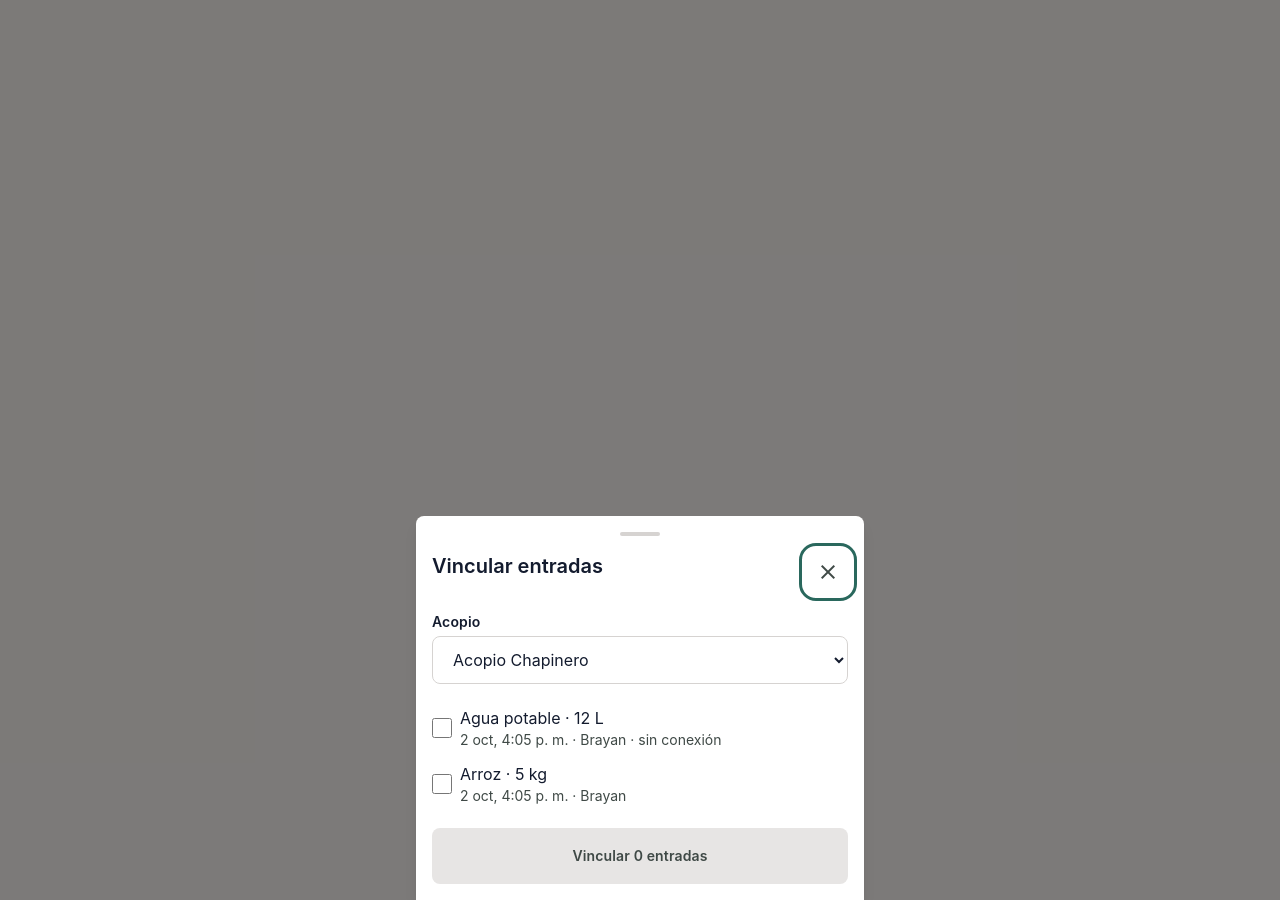
un 422 muestra el mensaje de la API
Click the checkbox labelled "Arroz · 5 kg 2 oct, 4:05 p. m. · Brayan" at (442, 784), box x1=432 y1=774 x2=452 y2=794
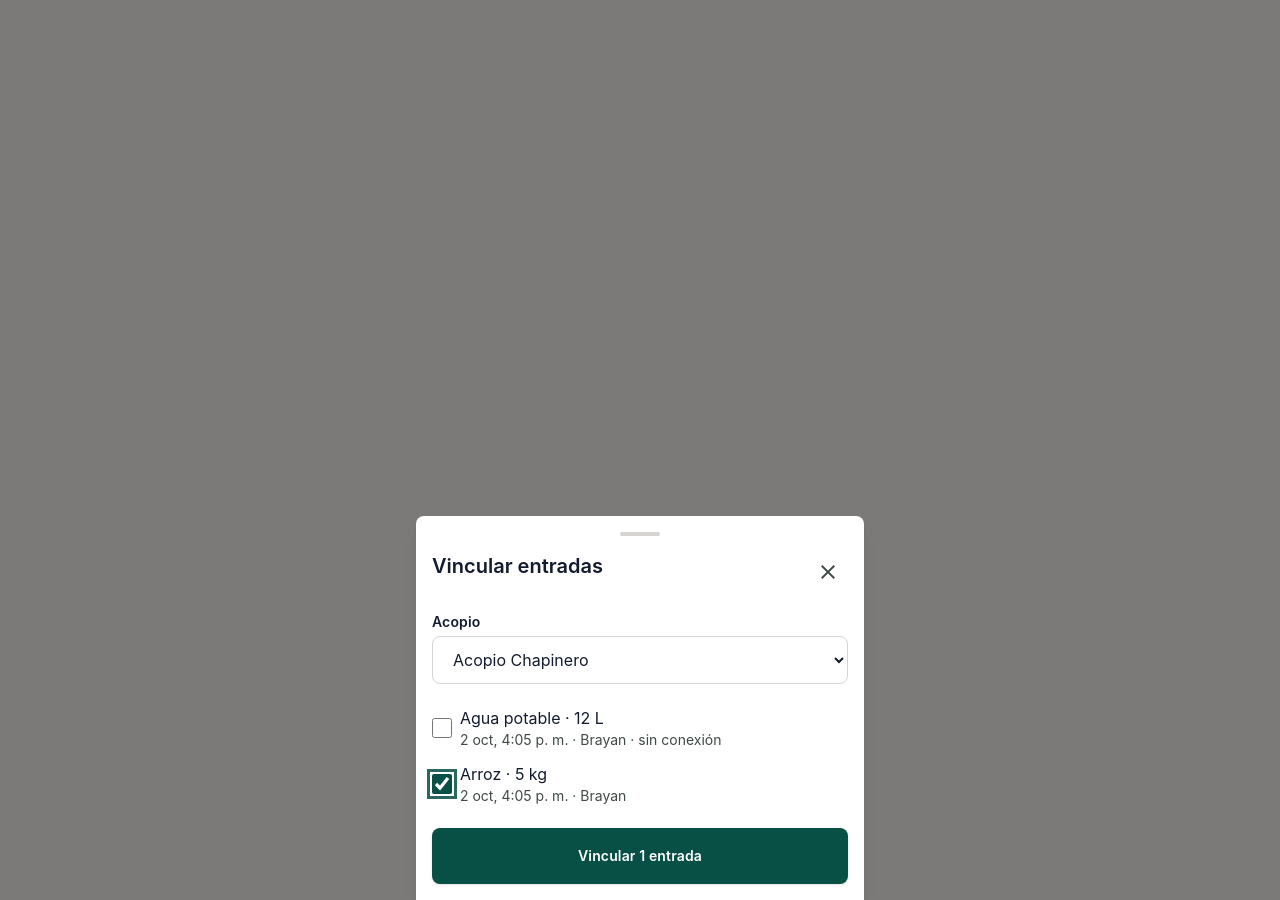
Click the button "Vincular 1 entrada" at (640, 856), box x1=432 y1=828 x2=848 y2=884
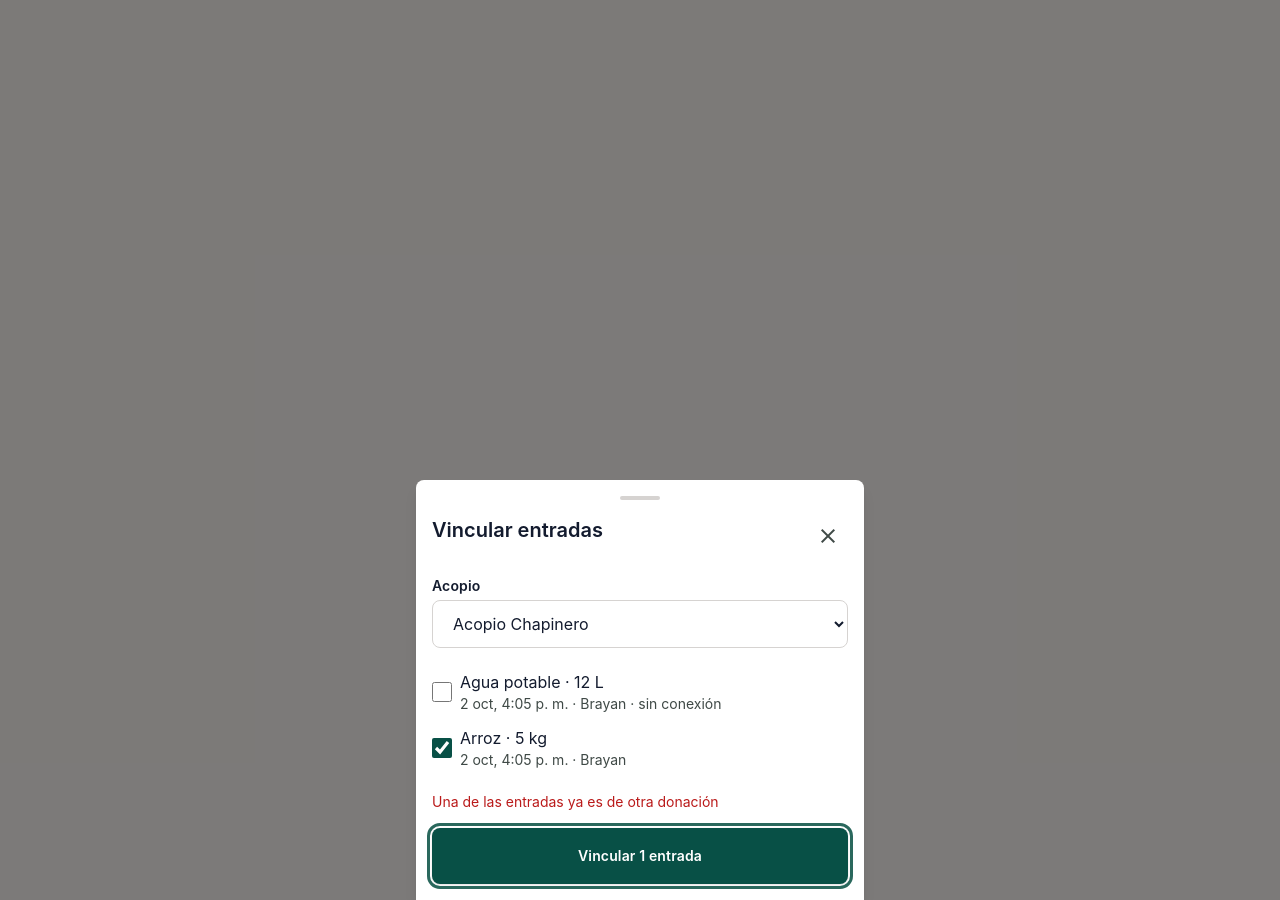
Expected: the message reads "Una de las entradas ya es de otra donación", x1=432 y1=793 x2=719 y2=810
